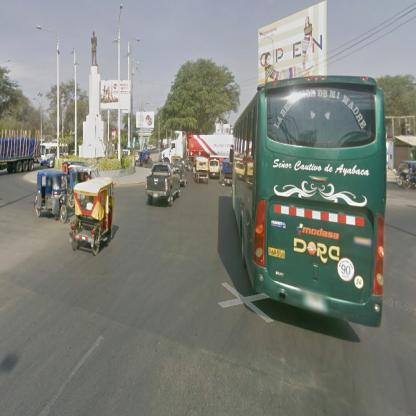Vehiculo: (230, 77, 388, 331), (69, 174, 116, 259), (161, 130, 232, 168), (34, 168, 68, 220), (146, 162, 182, 205), (209, 159, 223, 179)
